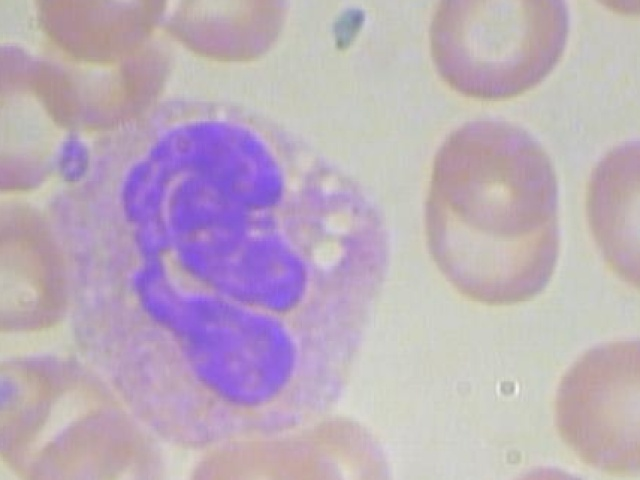RBC: (422, 0, 575, 119), (429, 103, 567, 231), (537, 311, 640, 479), (0, 28, 80, 207), (0, 192, 83, 337), (577, 123, 640, 297), (144, 0, 295, 70), (13, 414, 172, 480), (182, 425, 364, 480), (28, 0, 175, 68), (284, 411, 398, 480), (476, 454, 636, 480), (571, 0, 640, 22)
WBC: (45, 95, 412, 465)
